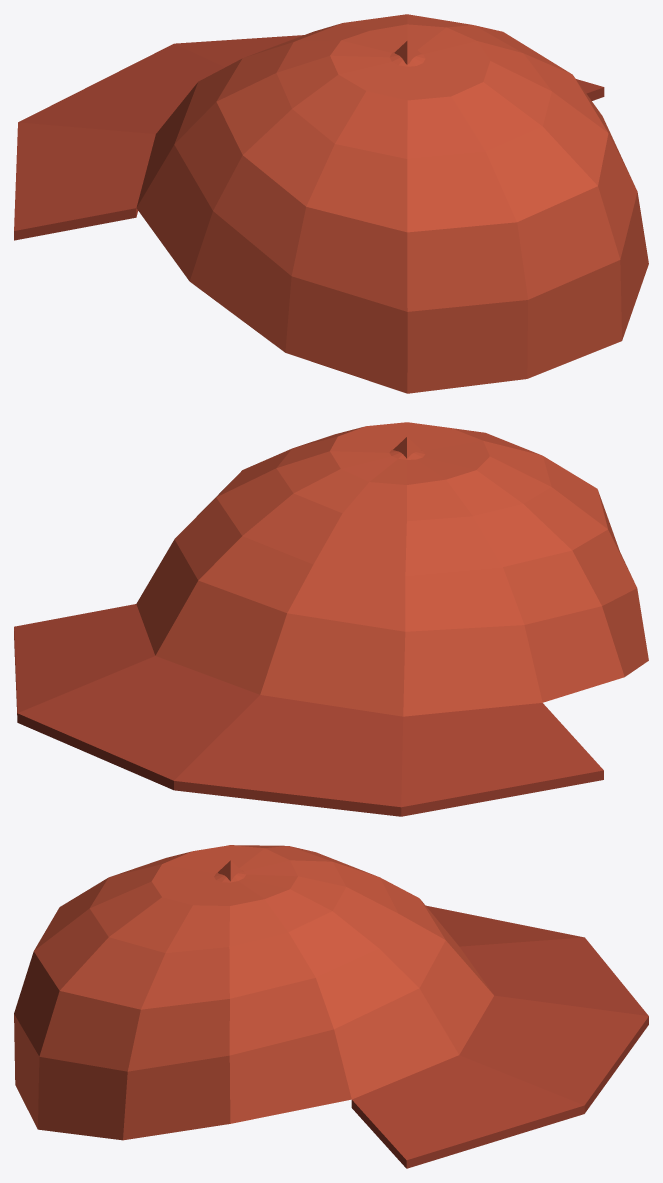
File: lwf_hat_cap_male_v1.glb
The picture shows the model from 3 angles, top to bottom: view 1: azimuth 30°, elevation 25°; view 2: azimuth 150°, elevation 25°; view 3: azimuth 270°, elevation 25°; orthographic projection. The views are drawn at different scales.
Parts seen in each view (by area): view 1: LWF_Hat_Cap; view 2: LWF_Hat_Cap; view 3: LWF_Hat_Cap.
Part boxes in pixels (x1,y1,x2,y2): LWF_Hat_Cap: (14, 14, 648, 393); LWF_Hat_Cap: (14, 422, 648, 816); LWF_Hat_Cap: (14, 845, 648, 1168).
Size of the model in its own units: 0.324 by 0.1313 by 0.3365.
1 material, 1 textured.
